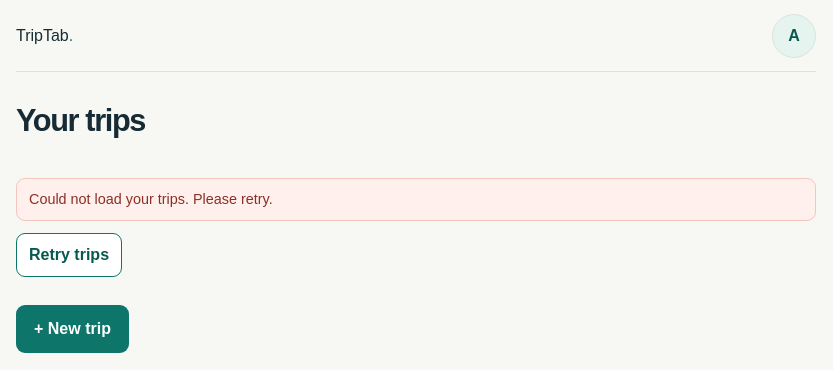
shows a read error with Retry instead of an empty state
Expected: the message reads "Could not load your trips. Please retry.", [29, 191, 273, 207]
Click the button "Retry trips". click: (69, 255)
box: [16, 233, 122, 277]
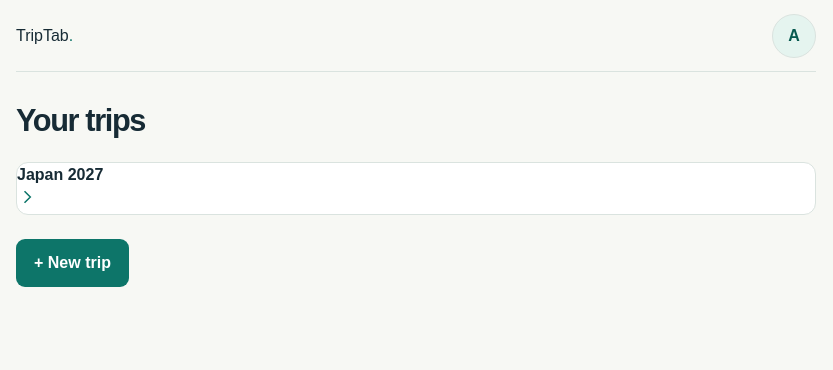
Now the link "Japan 2027" is shown, box [17, 166, 103, 207]
